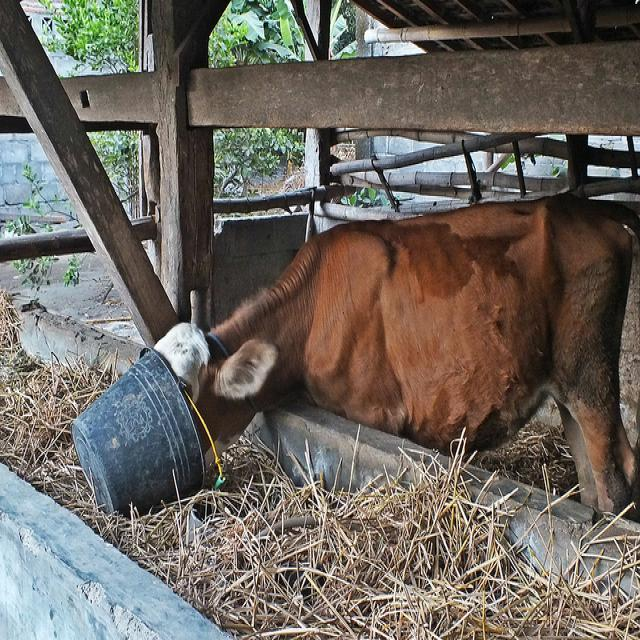cow: (154, 192, 637, 517)
